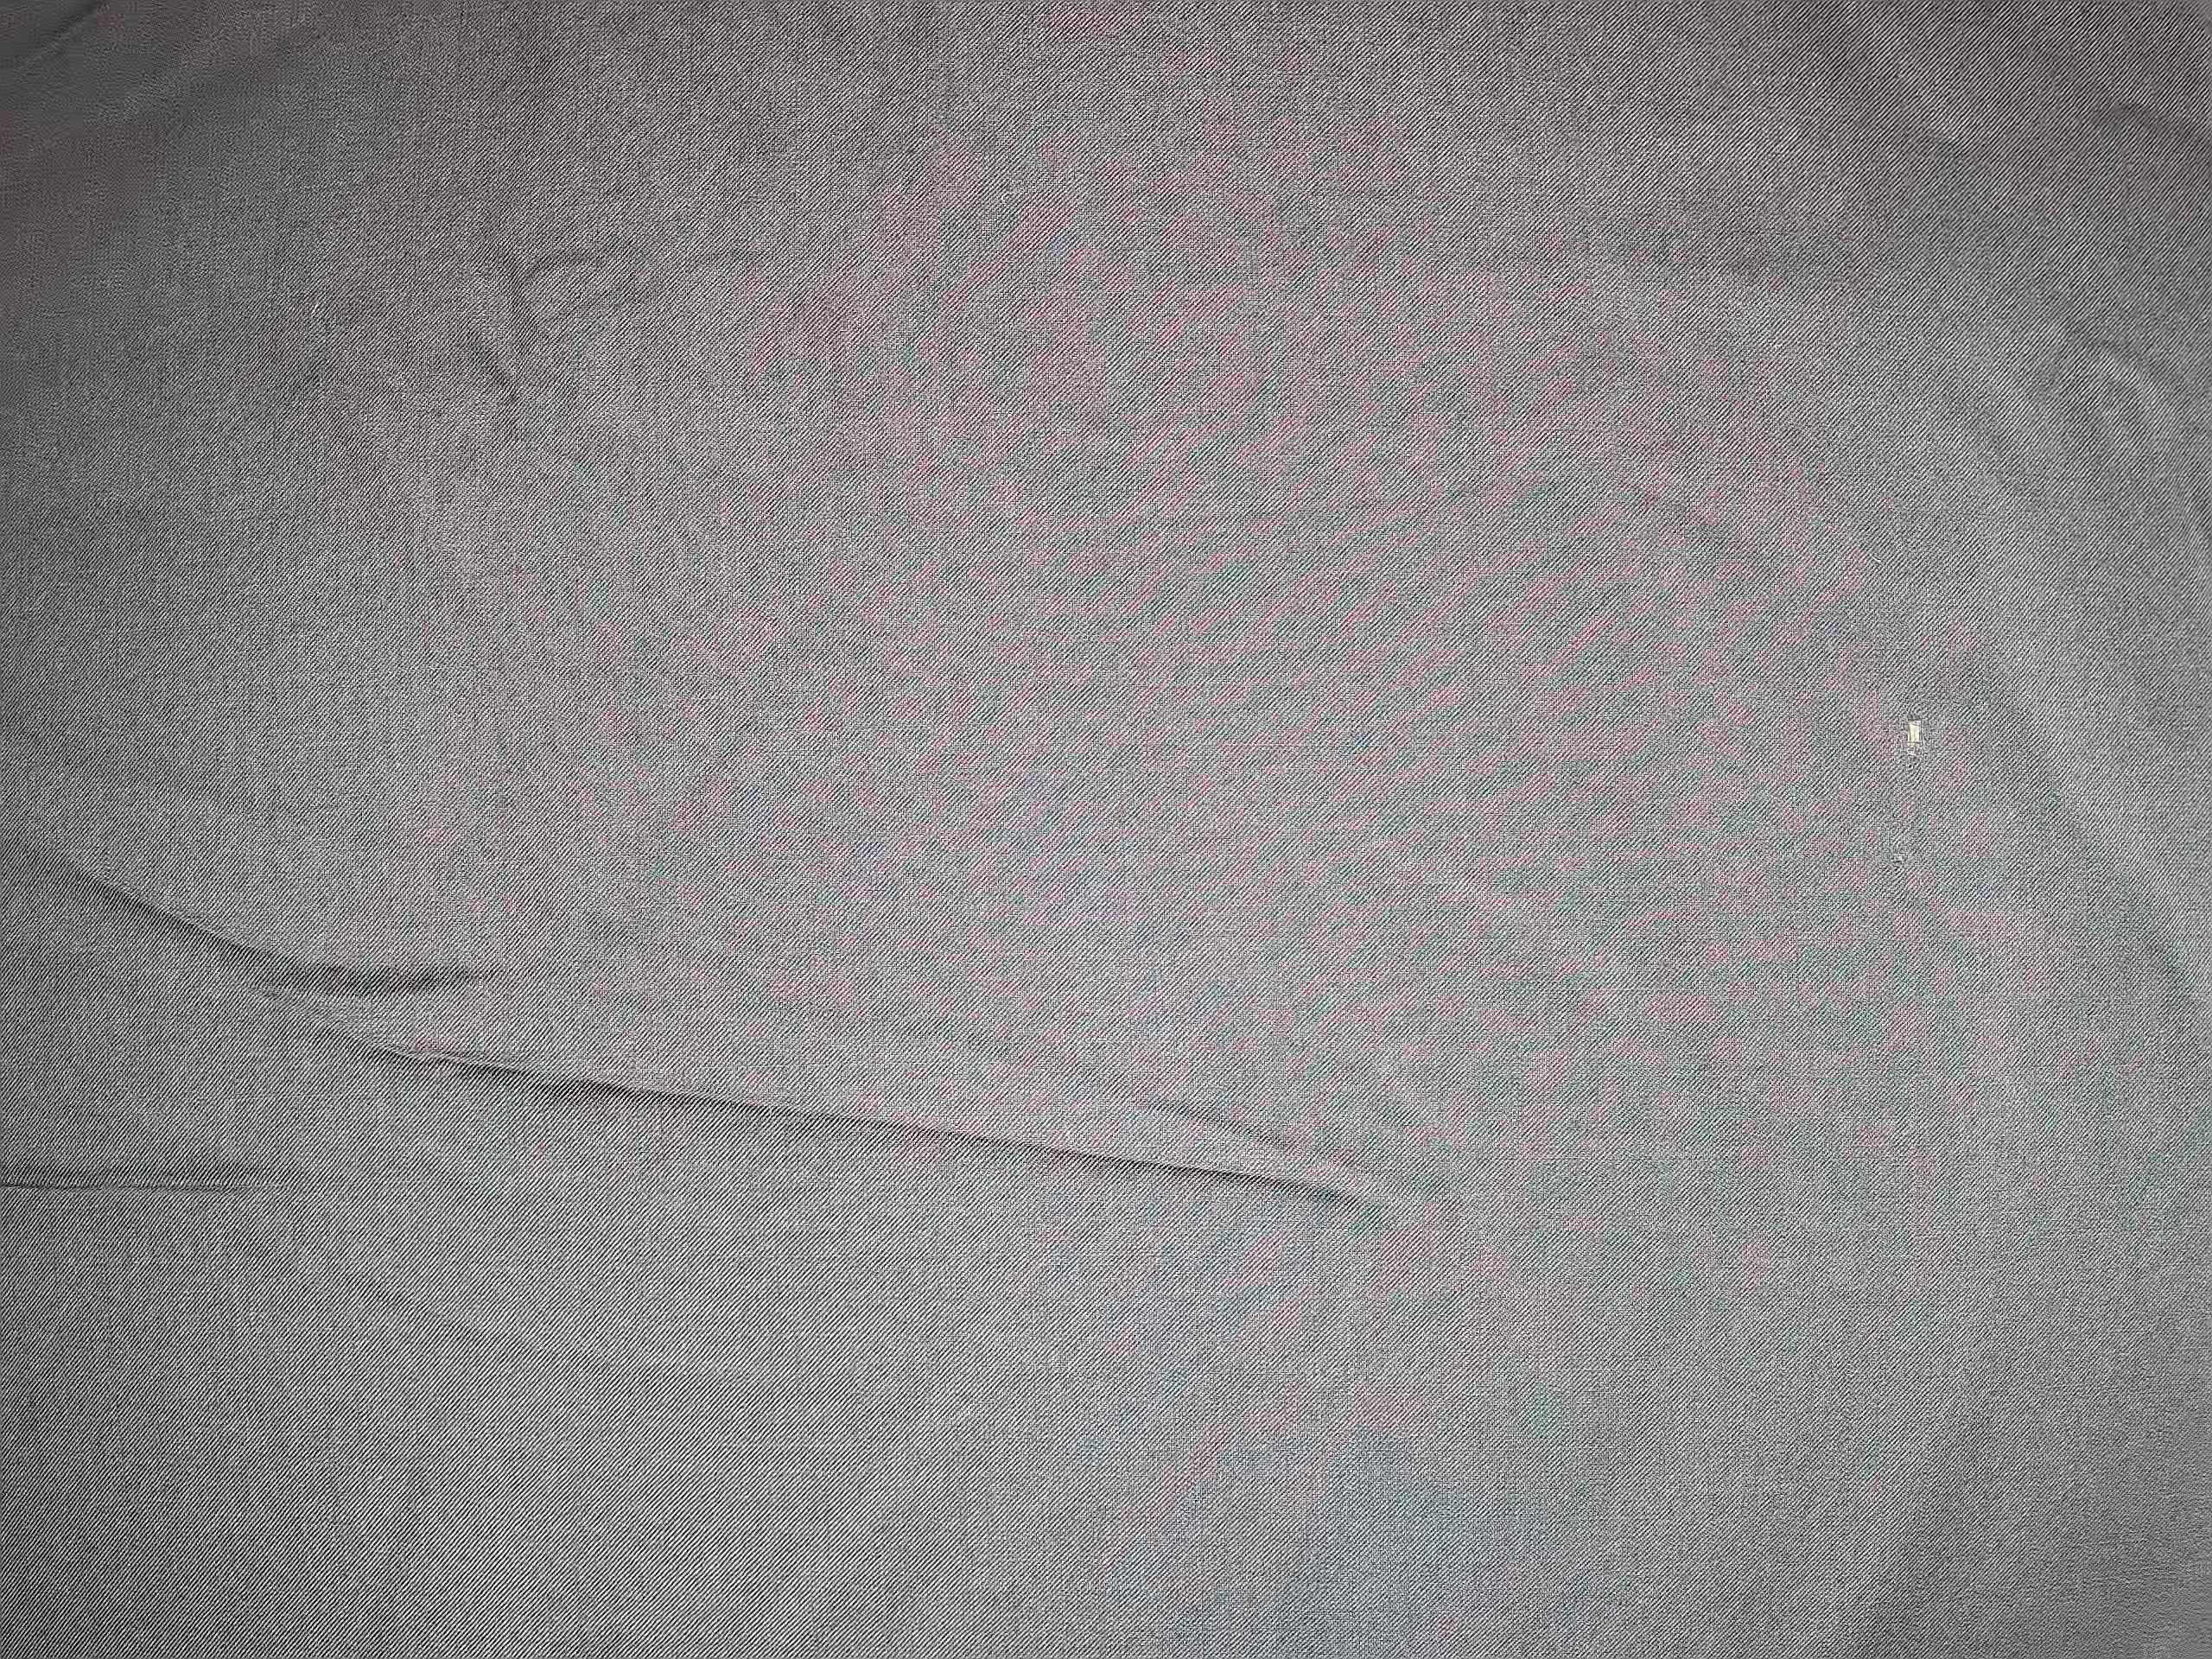brushed-hole: (1876, 671, 1944, 791)
